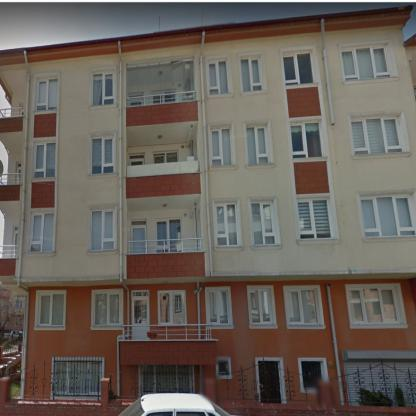door: (259, 362, 281, 403)
window: (360, 196, 416, 236), (350, 118, 402, 156), (341, 45, 392, 81), (349, 288, 399, 324), (54, 361, 101, 393), (141, 365, 192, 394), (297, 199, 332, 240), (290, 122, 323, 160), (286, 289, 318, 325), (282, 53, 314, 86), (215, 203, 239, 247), (90, 209, 114, 252), (252, 202, 276, 244), (246, 126, 270, 166), (37, 294, 65, 328), (30, 213, 54, 252), (94, 292, 120, 328), (159, 291, 185, 325), (210, 128, 232, 167), (33, 142, 55, 180), (92, 138, 115, 174), (157, 219, 181, 252), (250, 289, 272, 325), (209, 290, 230, 326), (240, 58, 262, 92), (93, 72, 115, 104), (208, 61, 228, 95), (37, 78, 57, 110), (131, 220, 147, 253), (302, 362, 322, 388), (153, 90, 175, 104), (153, 151, 178, 163), (129, 94, 143, 106), (130, 155, 144, 165), (14, 228, 18, 257), (218, 363, 228, 373), (18, 163, 21, 184)
